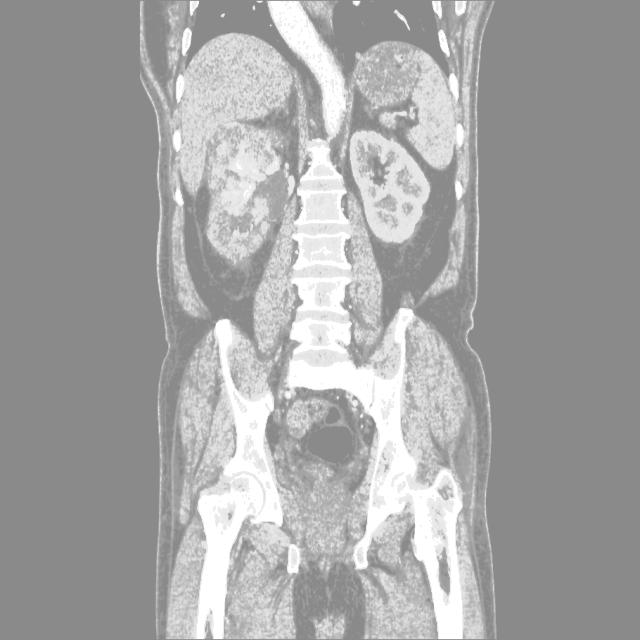TUMOR: (131, 124, 454, 302)
